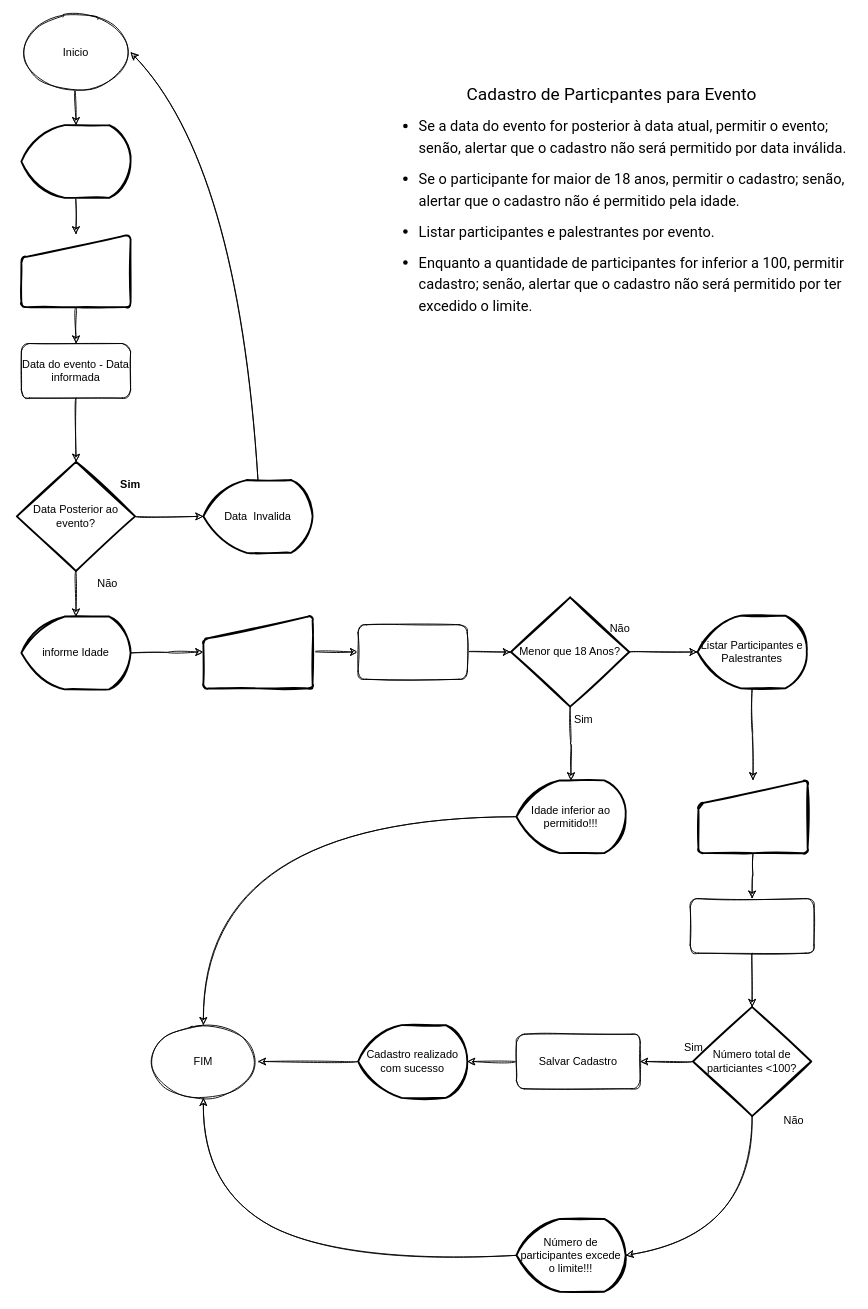
The diagram is 868 pixels wide and 1309 high, and some of its shapes have lost their labels. Each missing label, with the centre of its shape:
data_do_evento: point 75,270
Idade: point 257,651
Idade - 18: point 412,651
Informe data_do_evento.: point 75,161
Número de participantes + atual: point 752,816
Total Parcipantes= Participantes atuais + 1: point 751,925
